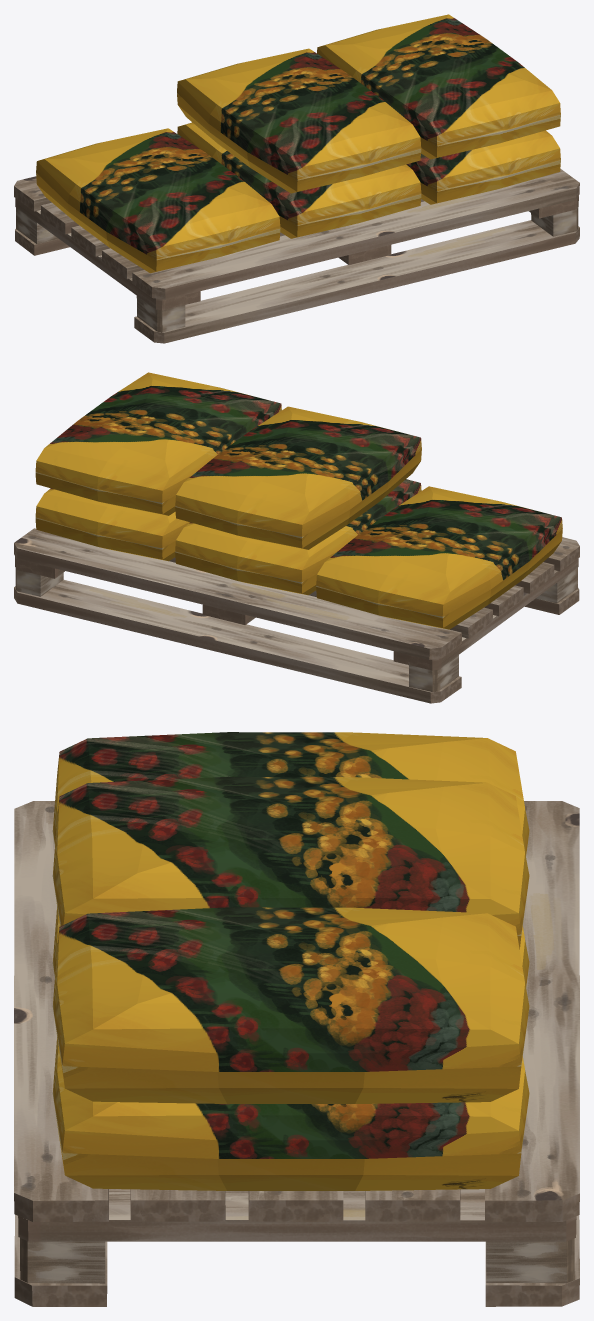
The model's file is Dirt_pallet01.fbx.
The picture shows the model from 3 angles, top to bottom: view 1: azimuth 30°, elevation 25°; view 2: azimuth 150°, elevation 25°; view 3: azimuth 270°, elevation 25°; orthographic projection. The views are drawn at different scales.
Visible parts, largest first — view 1: Bags_of_dirt01, Pallet01; view 2: Bags_of_dirt01, Pallet01; view 3: Bags_of_dirt01, Pallet01.
Boxes of the visible parts, box(x1,y1,x2,y2) form: Bags_of_dirt01: box(36, 14, 560, 273); Pallet01: box(14, 168, 579, 343); Bags_of_dirt01: box(35, 372, 562, 629); Pallet01: box(14, 528, 579, 703); Bags_of_dirt01: box(52, 732, 529, 1190); Pallet01: box(14, 801, 579, 1306).
Size of the model in its own units: 405 by 135 by 242.
Materials: 2 (2 with a texture image).
